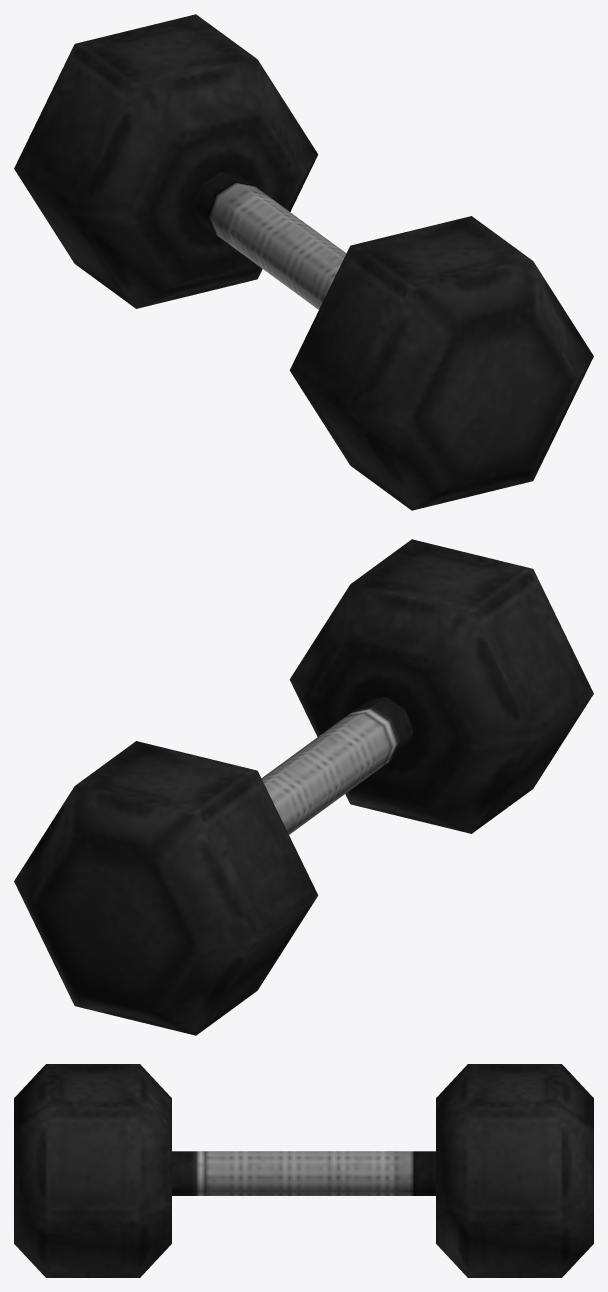
The model's file is MB_Dumbbells.fbx.
3 views of the same model, one above another, from view 1: azimuth 30°, elevation 25°; view 2: azimuth 150°, elevation 25°; view 3: azimuth 270°, elevation 25° (orthographic). The views are drawn at different scales.
Parts seen in each view (by area): view 1: MB_Dumbbells; view 2: MB_Dumbbells; view 3: MB_Dumbbells.
Boxes of the visible parts, x1,y1,x2,y2 form: MB_Dumbbells: [14, 14, 593, 510]; MB_Dumbbells: [14, 539, 593, 1035]; MB_Dumbbells: [14, 1064, 593, 1277].
Size of the model in its own units: 19.07 by 16.52 by 51.56.
